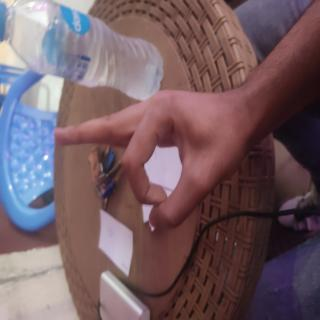Space: (63, 67, 175, 320)
